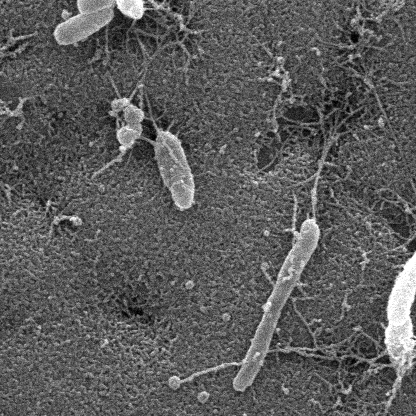cell2surface: (173, 359, 247, 387), (268, 339, 342, 361)
filament: (240, 221, 323, 389)
regular: (153, 128, 199, 211), (390, 241, 416, 326)
spheroplast: (77, 0, 116, 19)
